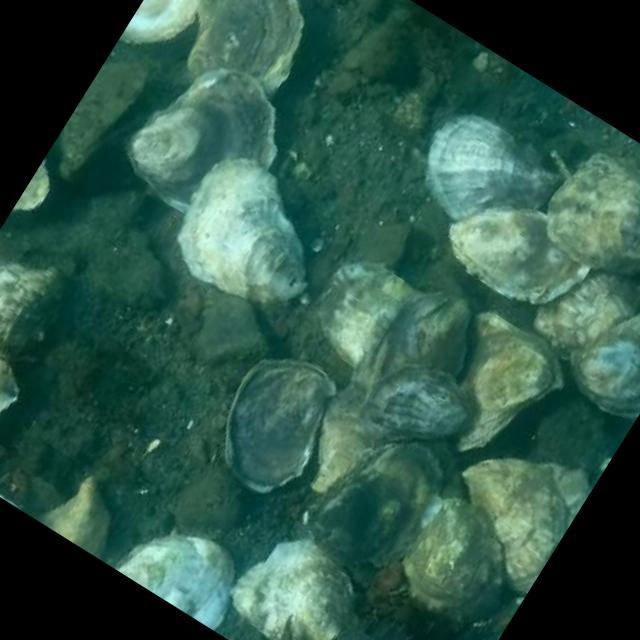Oyster- Indeterminate: (114, 49, 303, 233), (420, 419, 595, 600), (293, 419, 467, 592), (398, 290, 569, 457), (399, 94, 567, 259), (161, 148, 309, 319), (440, 175, 592, 331), (383, 488, 532, 640), (205, 341, 341, 506), (332, 279, 485, 397), (112, 502, 253, 630), (222, 522, 374, 640), (297, 242, 419, 368), (275, 379, 397, 495), (546, 156, 640, 278), (352, 360, 474, 445), (33, 464, 133, 560), (571, 313, 640, 417), (0, 263, 66, 364)
Oyster-Open: (24, 42, 170, 180)
